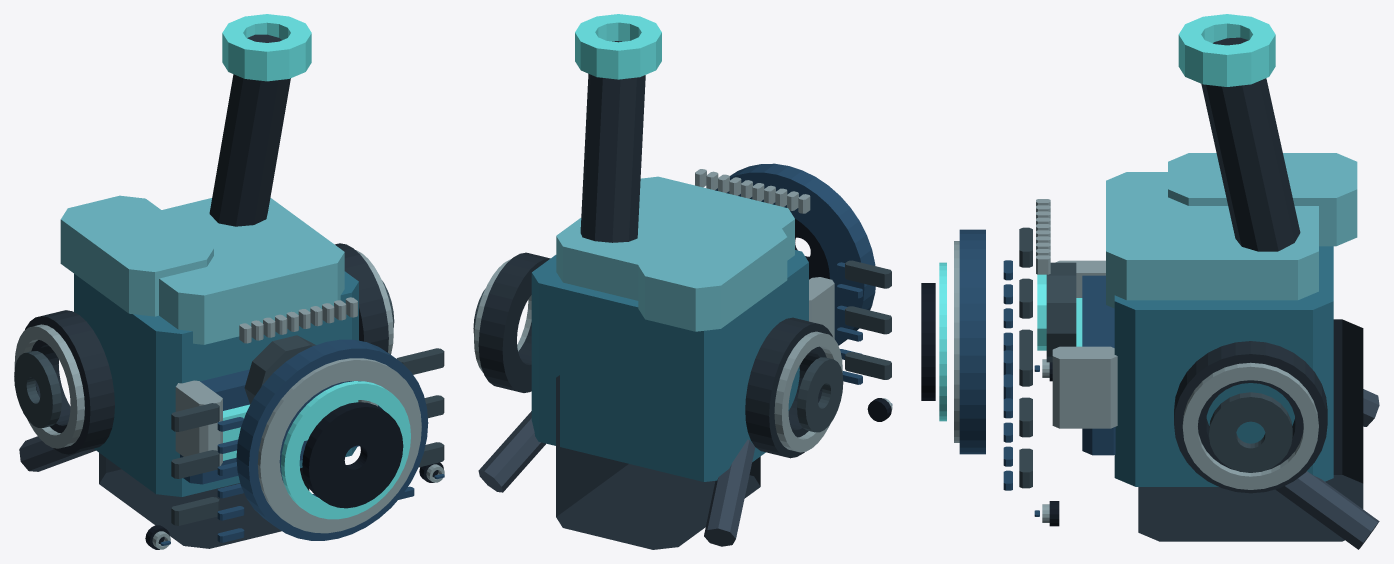
The model's file is enemy_marksman_4k_head.obj.
The picture shows the model from 3 angles, left to right: view 1: azimuth 30°, elevation 25°; view 2: azimuth 150°, elevation 25°; view 3: azimuth 270°, elevation 25°; orthographic projection. The views are drawn at different scales.
Size of the model in its own units: 0.723 by 0.935 by 0.7748.
